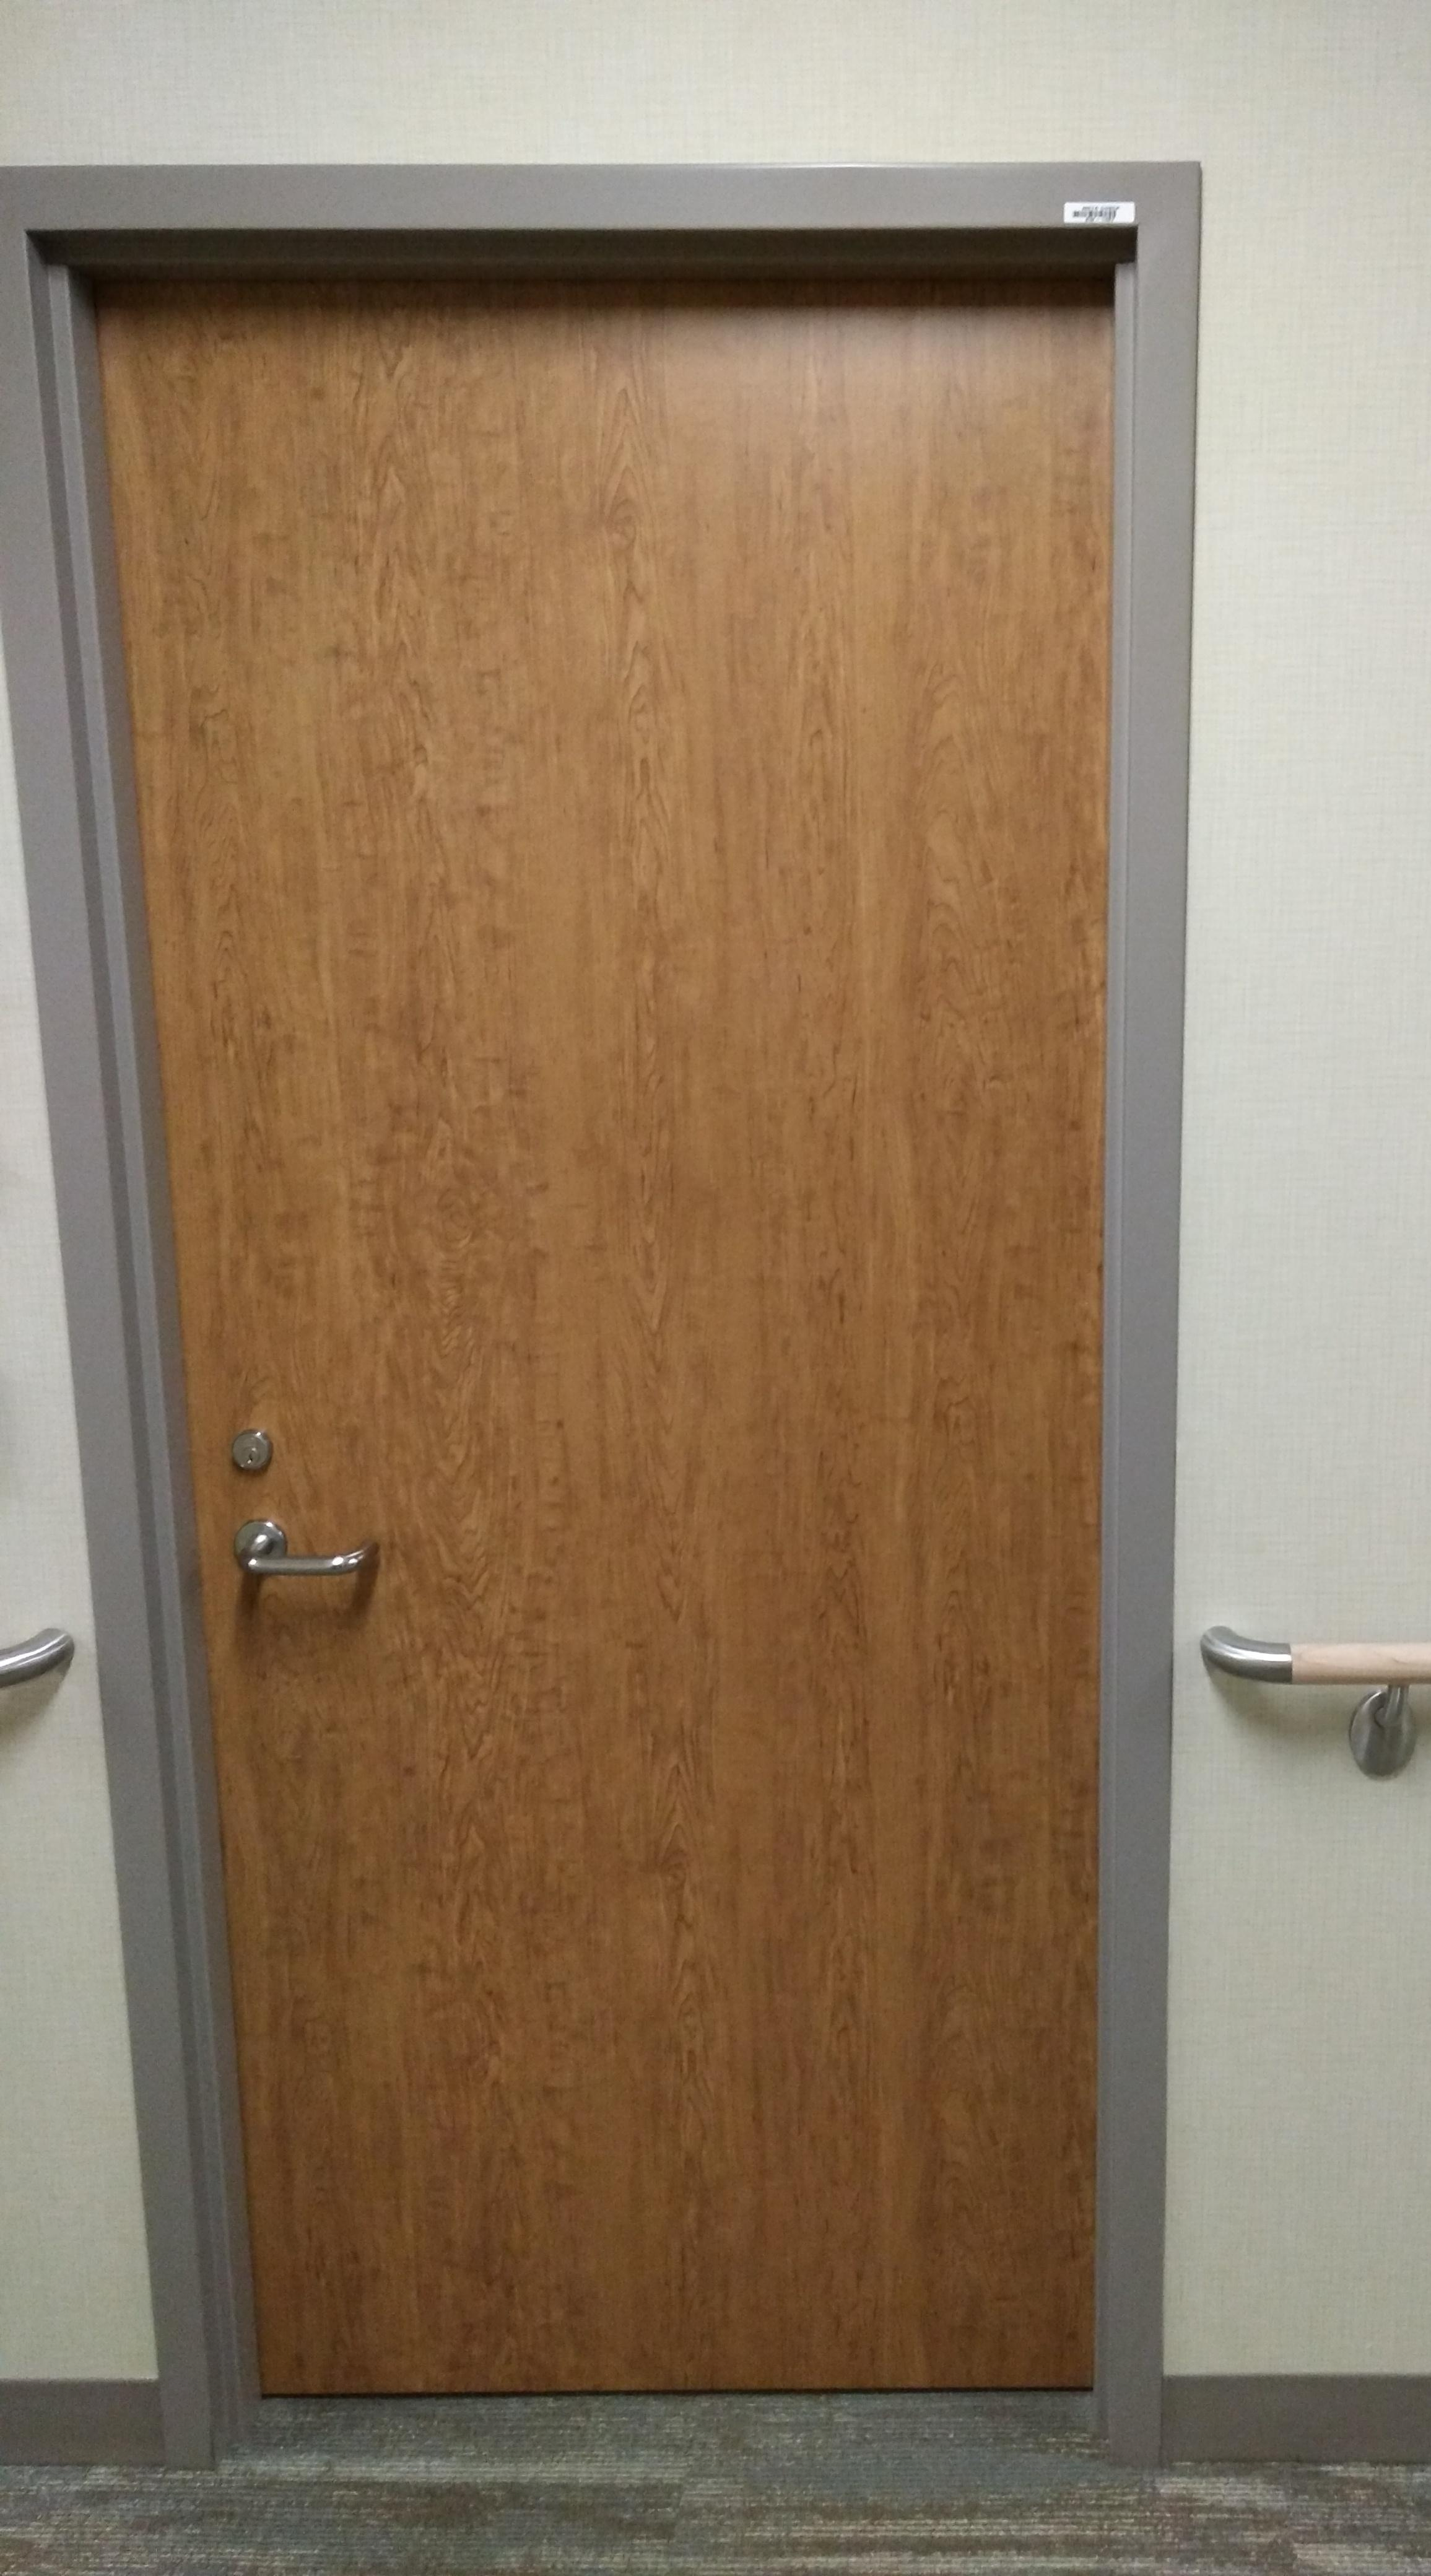door: (26, 222, 1153, 2449)
